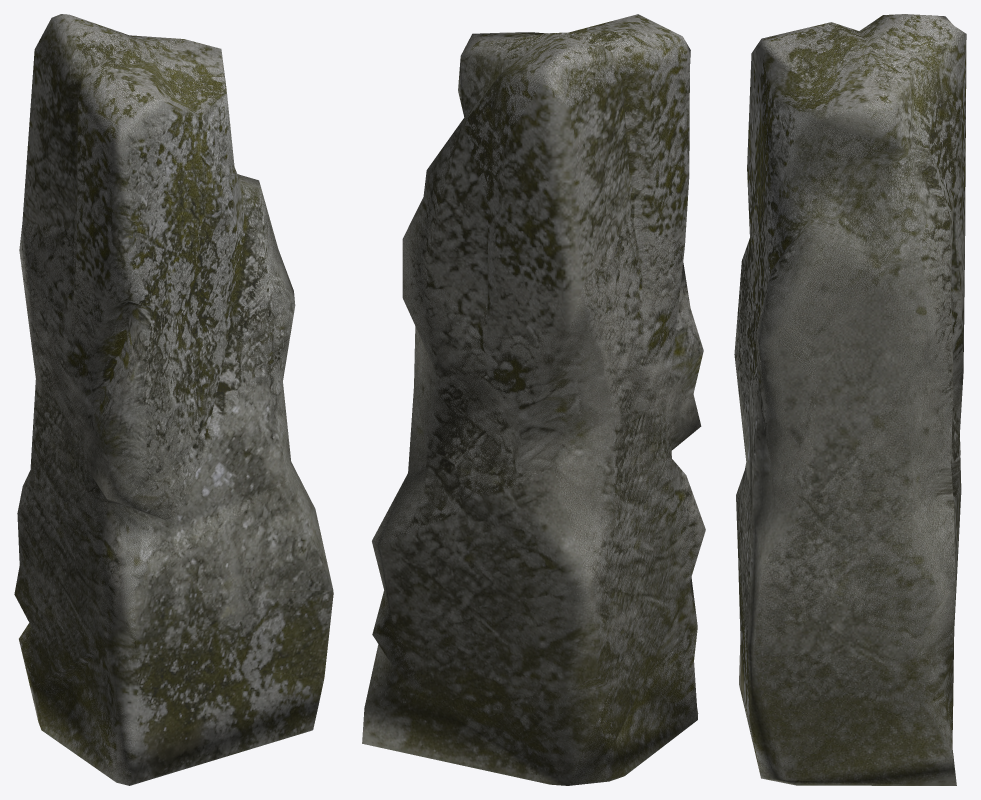
The model's file is pillar_broken_stone.glb.
3 renders of one model, left to right at view 1: azimuth 30°, elevation 25°; view 2: azimuth 150°, elevation 25°; view 3: azimuth 270°, elevation 25°, orthographic. The views are drawn at different scales.
Bounding box in the file's own units: 0.3428 × 1 × 0.3066.
Materials: 1 (1 with a texture image).
